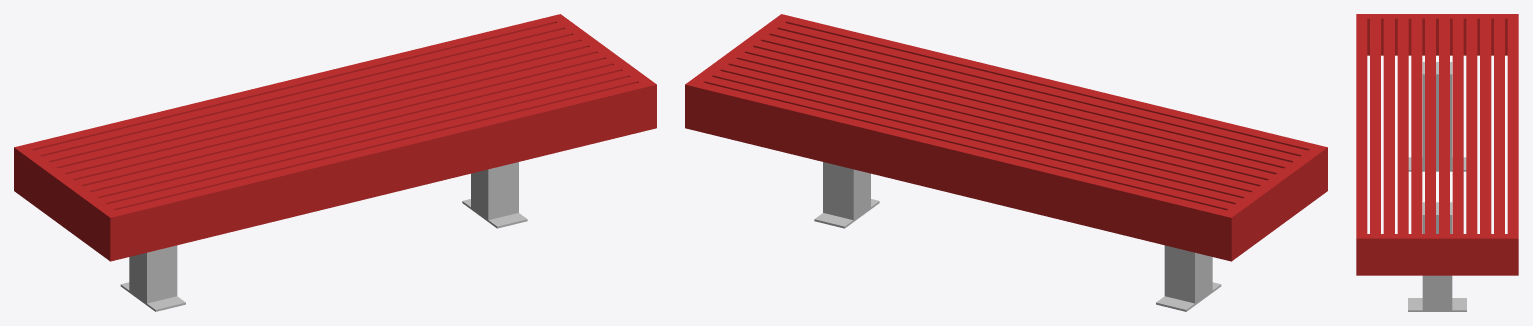
3 views of the same model, side by side, from view 1: azimuth 30°, elevation 25°; view 2: azimuth 150°, elevation 25°; view 3: azimuth 270°, elevation 25° (orthographic). The views are drawn at different scales.
Visible parts, largest first — view 1: mesh3_mesh3-geometry, mesh5_mesh5-geometry, mesh7_mesh7-geometry, mesh1_mesh1-geometry; view 2: mesh3_mesh3-geometry, mesh5_mesh5-geometry, mesh7_mesh7-geometry, mesh1_mesh1-geometry; view 3: mesh3_mesh3-geometry, mesh7_mesh7-geometry, mesh5_mesh5-geometry, mesh1_mesh1-geometry.
Boxes of the visible parts, bbox=[...] form: mesh3_mesh3-geometry: bbox=[34, 23, 637, 210]; mesh5_mesh5-geometry: bbox=[14, 14, 656, 261]; mesh7_mesh7-geometry: bbox=[20, 19, 649, 256]; mesh1_mesh1-geometry: bbox=[120, 162, 527, 311]; mesh3_mesh3-geometry: bbox=[704, 23, 1307, 210]; mesh5_mesh5-geometry: bbox=[685, 14, 1327, 261]; mesh7_mesh7-geometry: bbox=[692, 19, 1321, 256]; mesh1_mesh1-geometry: bbox=[814, 162, 1221, 311]; mesh3_mesh3-geometry: bbox=[1370, 18, 1504, 233]; mesh7_mesh7-geometry: bbox=[1367, 14, 1507, 275]; mesh5_mesh5-geometry: bbox=[1356, 14, 1518, 275]; mesh1_mesh1-geometry: bbox=[1408, 62, 1466, 311].
Bounding box in the file's own units: 0.9329 × 0.2203 × 0.285.
